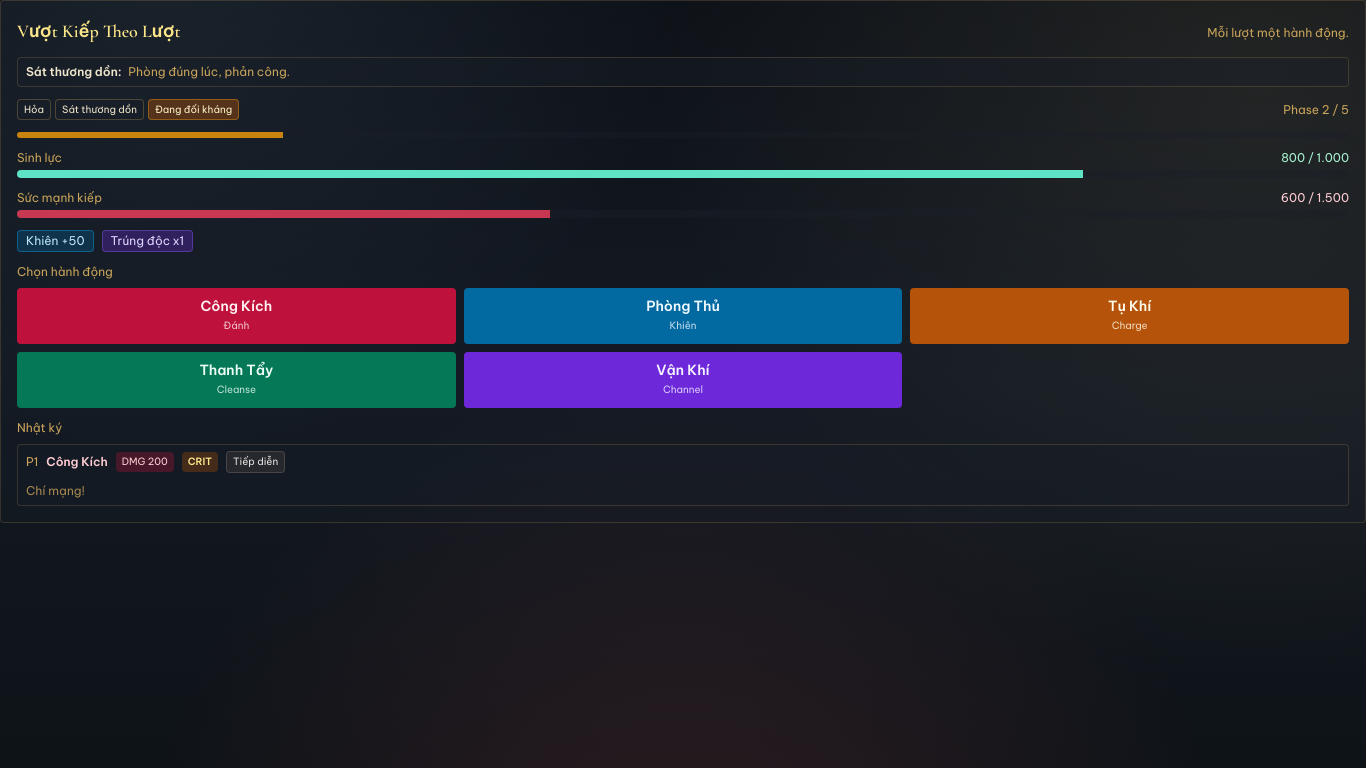
it: TribulationMiniBattlePanel — render & interactions › 8. lose result modal renders với CTA Thử lại
The image size is (1366, 768).
Click the button with test id "tribulation-mini-battle-action-attack".
click(236, 316)  # box [17,288,456,344]
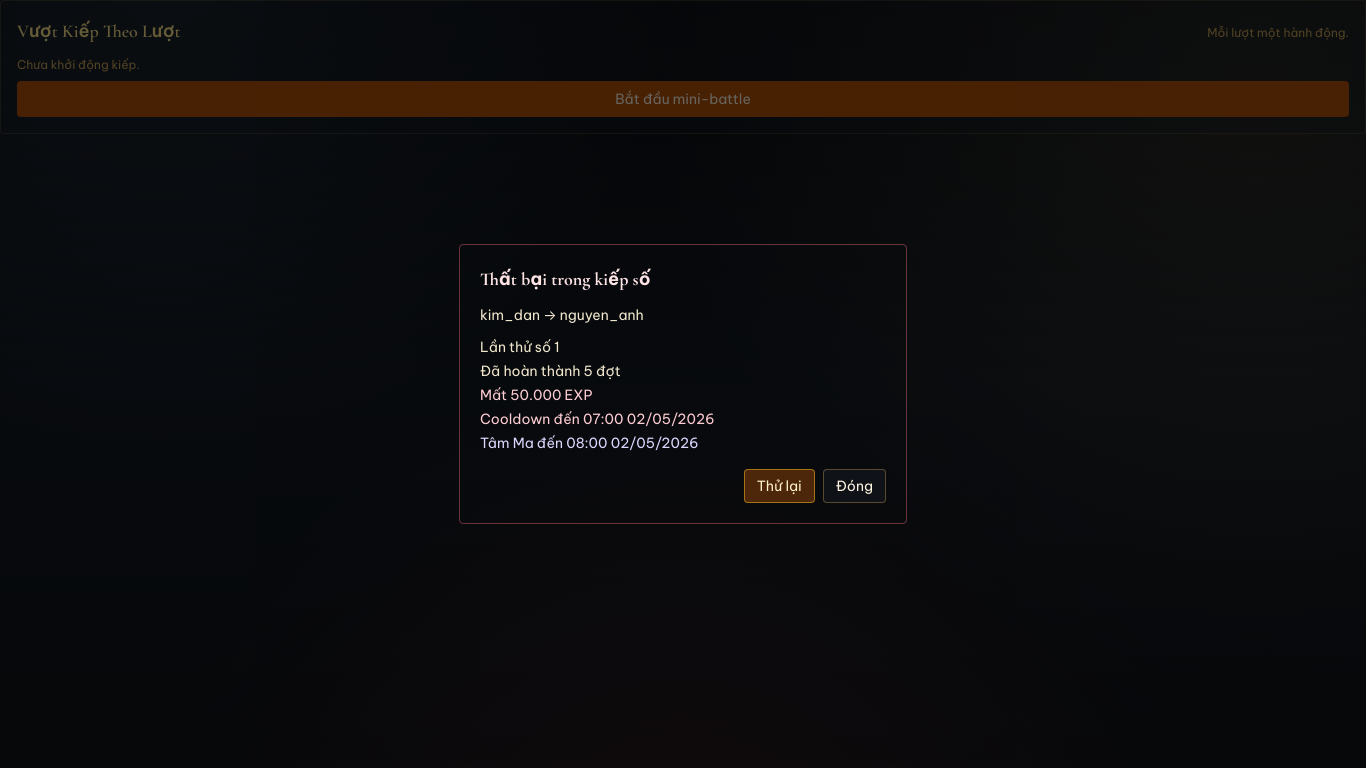
Check: the dialog with test id "tribulation-mini-battle-result-modal" is shown
Check: the dialog with test id "tribulation-mini-battle-result-modal" shows "Thất bại trong kiếp số", box [480,268,650,290]
Check: the button with test id "tribulation-mini-battle-result-retry" is shown, box [744,469,815,503]
